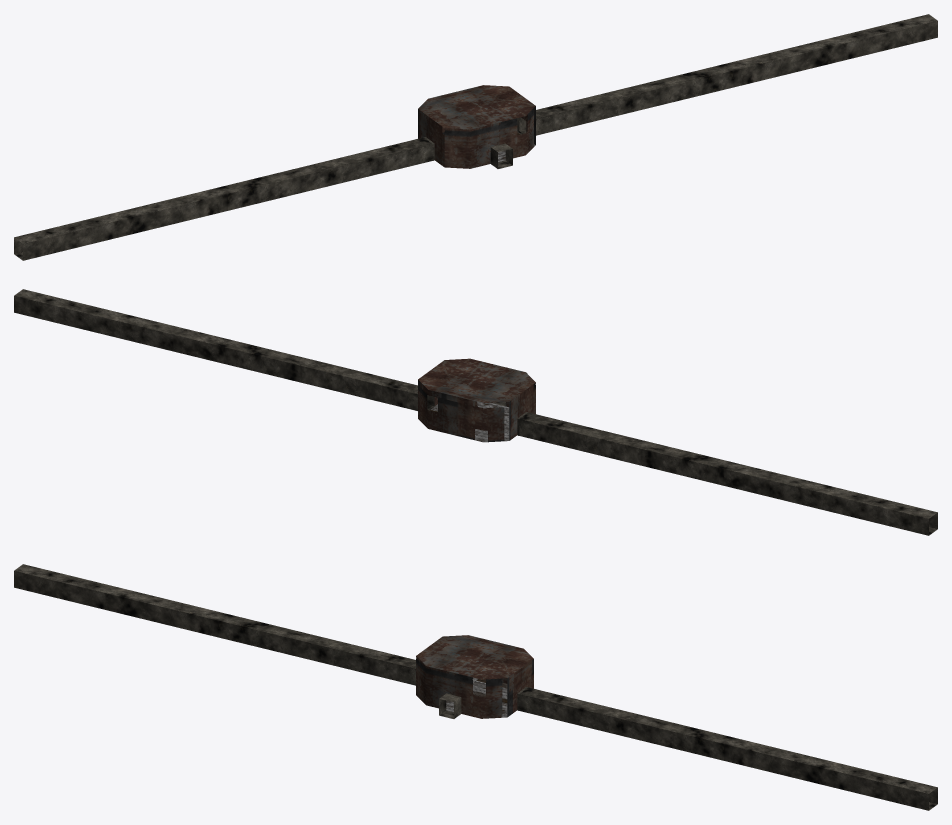
File: ILIRoomMaterials.fbx
3 views of the same model, one above another, from view 1: azimuth 30°, elevation 25°; view 2: azimuth 150°, elevation 25°; view 3: azimuth 330°, elevation 25° (orthographic).
Parts seen in each view (by area): view 1: Room; view 2: Room; view 3: Room.
Boxes of the visible parts, bbox=[...] form: Room: bbox=[14, 14, 937, 260]; Room: bbox=[14, 289, 937, 535]; Room: bbox=[14, 564, 937, 810].
Size of the model in its own units: 15426 by 634 by 1448.
Materials: 3 (3 with a texture image).
